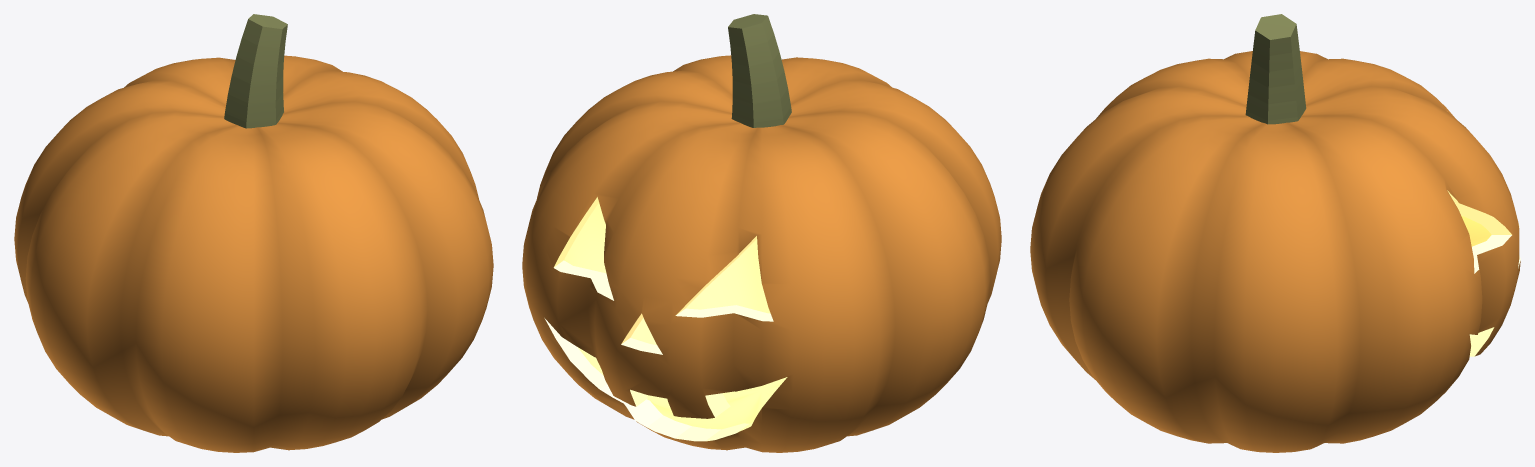
The model's file is jack-o-lantern.glb.
3 views of the same model, side by side, from view 1: azimuth 30°, elevation 25°; view 2: azimuth 150°, elevation 25°; view 3: azimuth 270°, elevation 25° (orthographic).
Parts seen in each view (by area): view 1: JackOLantern, JackOLantern_Stem; view 2: JackOLantern, JackOLantern_Stem; view 3: JackOLantern, JackOLantern_Stem.
Part boxes in pixels (x1=…): JackOLantern: x1=14, y1=55, x2=493, y2=452; JackOLantern_Stem: x1=224, y1=14, x2=287, y2=128; JackOLantern: x1=522, y1=55, x2=1001, y2=452; JackOLantern_Stem: x1=728, y1=14, x2=791, y2=127; JackOLantern: x1=1030, y1=51, x2=1520, y2=452; JackOLantern_Stem: x1=1245, y1=14, x2=1306, y2=124.
Size of the model in its own units: 0.18 by 0.1585 by 0.1797.
